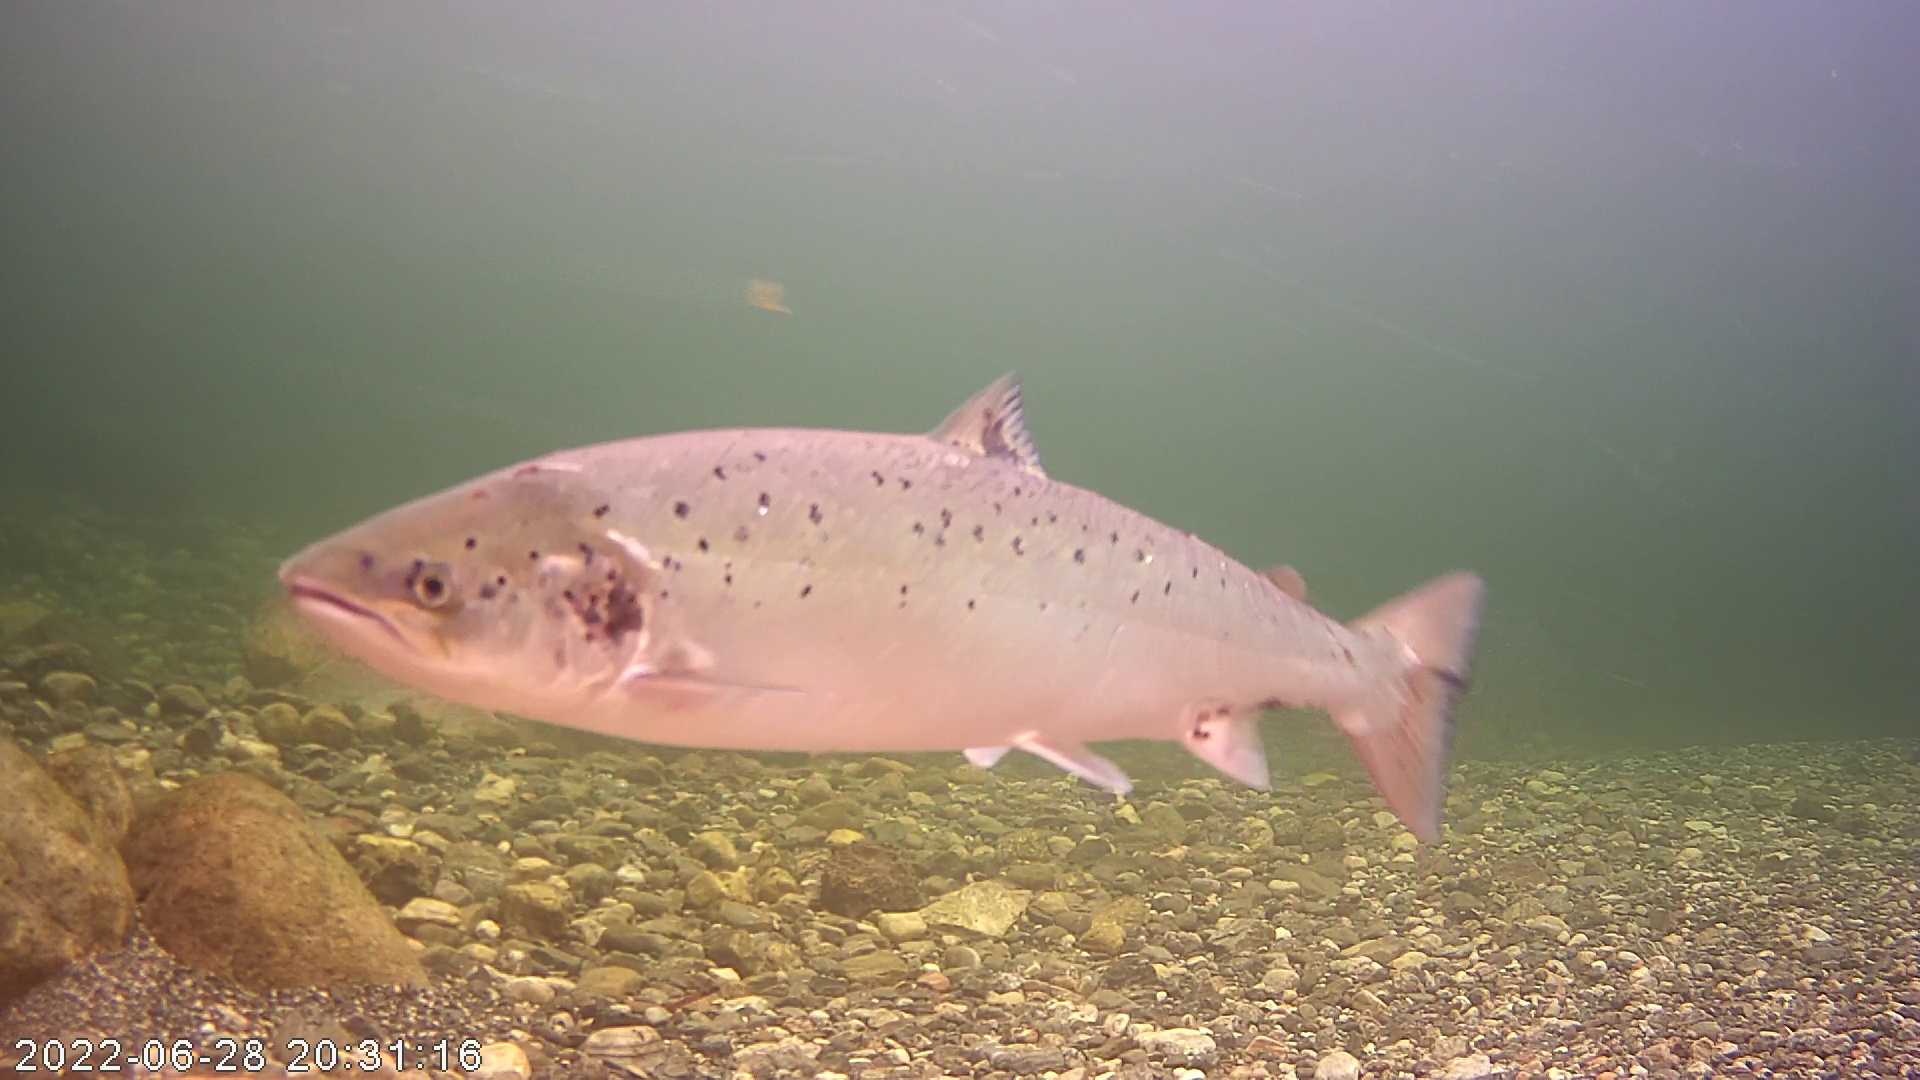salmon: (272, 258, 1385, 767)
